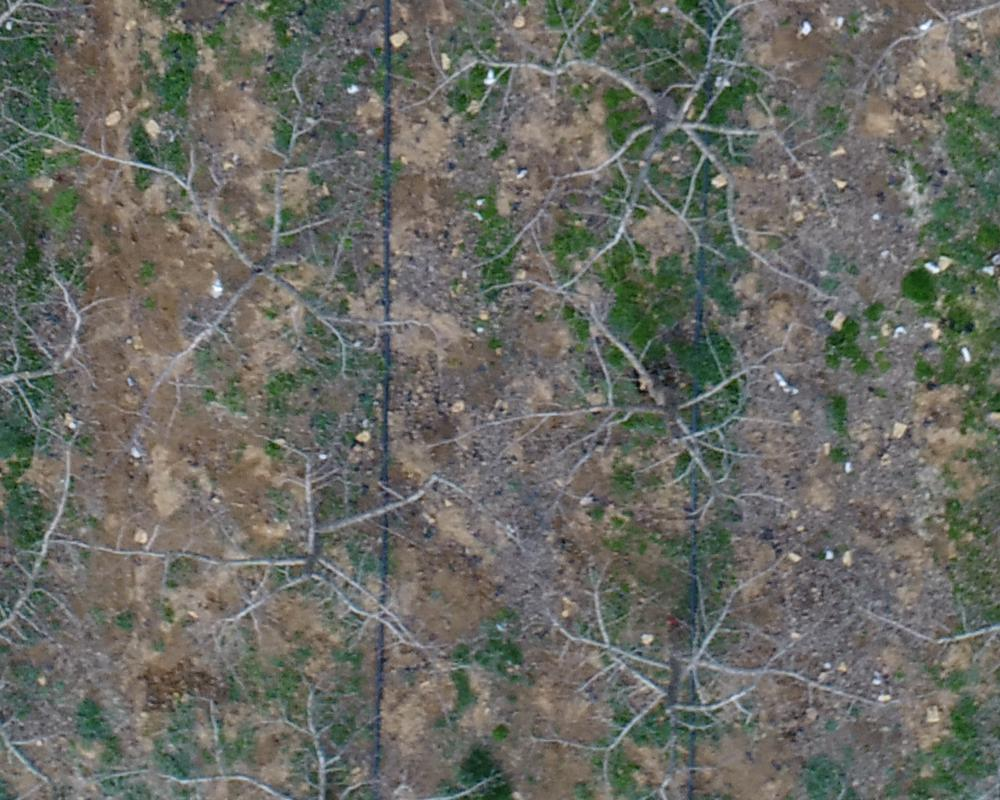apple: (398, 10, 879, 322), (10, 98, 431, 444), (53, 444, 483, 698), (452, 274, 819, 540), (499, 548, 894, 790)
